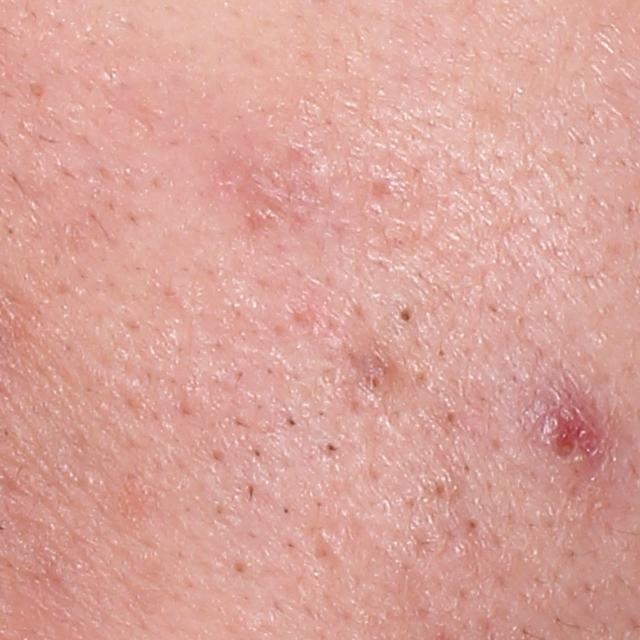comedo: (395, 301, 423, 326), (321, 439, 339, 457)
papule: (528, 401, 596, 460)
